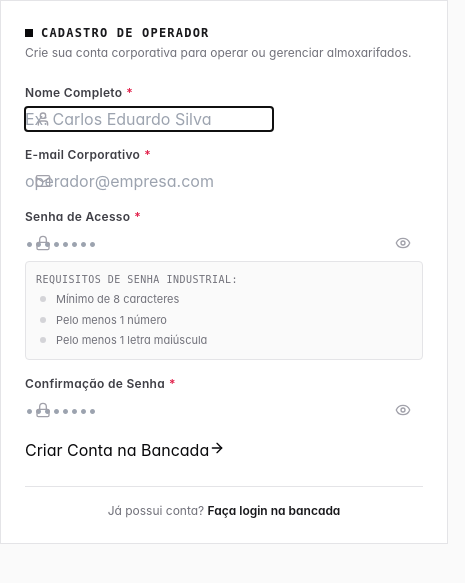
Test: RegisterForm (FT-06) › impede o envio se a confirmação de senha for diferente
The image size is (465, 583).
Type "Carlos Silva" into the field labelled "Nome Completo*" at (149, 119), box [25,107,273,131]
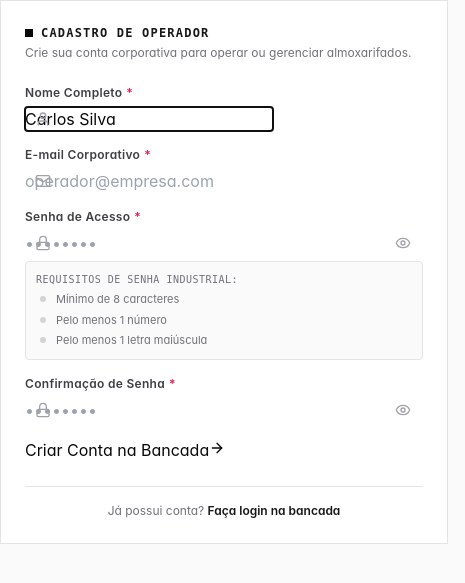
Type "carlos@empresa.com" into the field labelled "E-mail Corporativo*" at (149, 181), box [25,169,273,193]
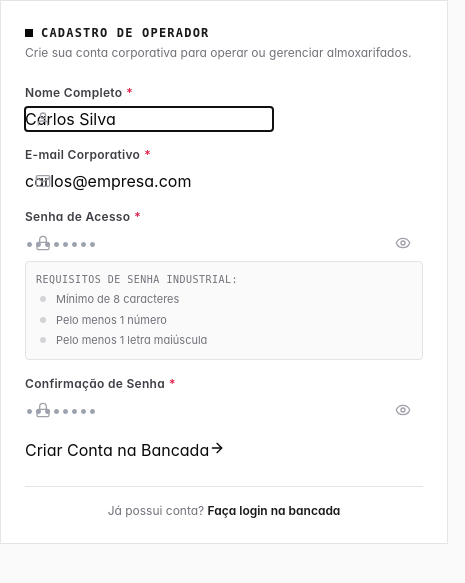
Type "SenhaForte123" into the password field labelled "Senha de Acesso*" at (149, 243), box [25,231,273,255]
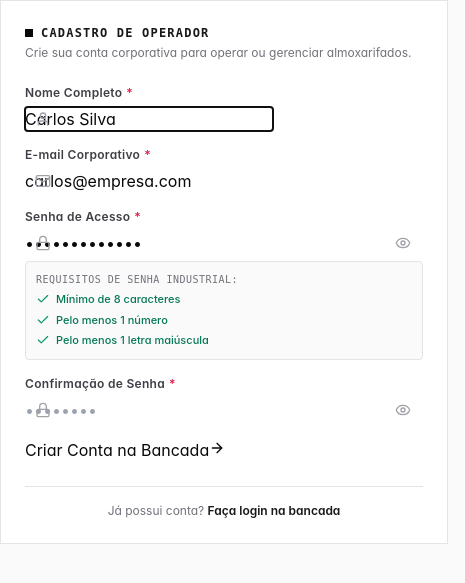
Type "SenhaDiferente123" into the password field labelled "Confirmação de Senha*" at (149, 410), box [25,398,273,422]
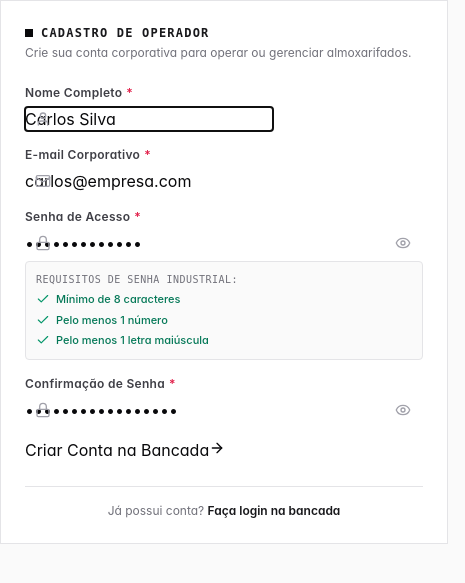
Click the button "Criar Conta na Bancada" at (125, 450), box [25,438,225,462]
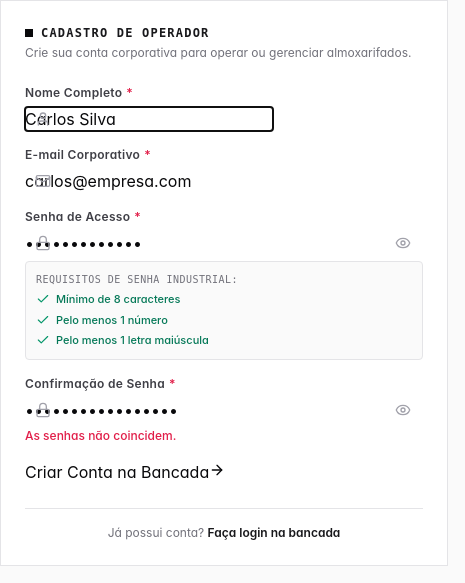
expect the text "As senhas não coincidem." is shown: met, box [25,428,176,442]
